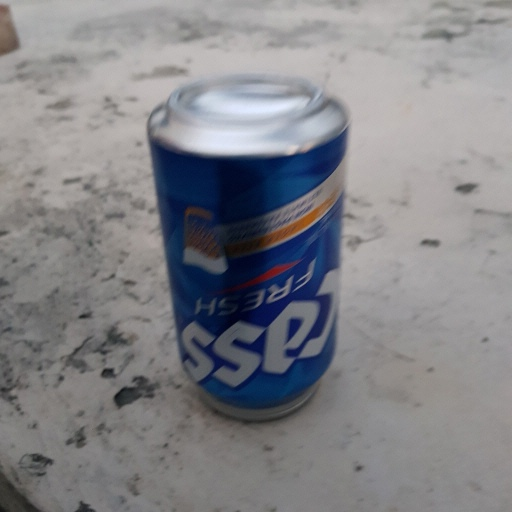Metal_0: (145, 71, 352, 429)
